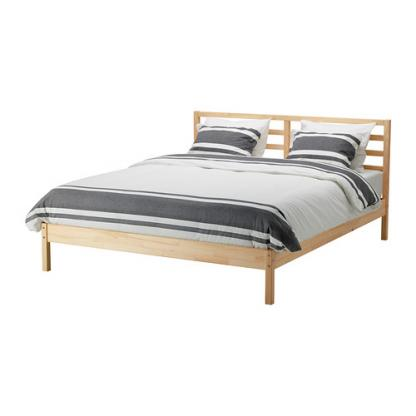Bed: (34, 102, 394, 302)
